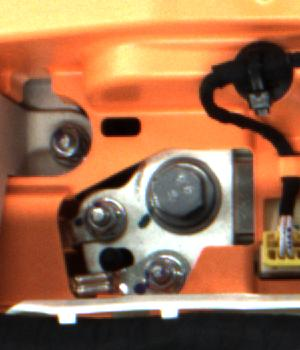nut_b: (143, 151, 227, 236)
screw_s: (42, 125, 84, 166), (139, 251, 179, 292), (83, 199, 123, 235)
